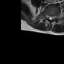CCS_stenosis: (49, 14, 51, 21)
LFS_normal: (53, 14, 56, 20)
LLS_normal: (51, 14, 53, 20)
RFS_normal: (46, 12, 47, 19)
RLS_normal: (47, 14, 49, 20)
